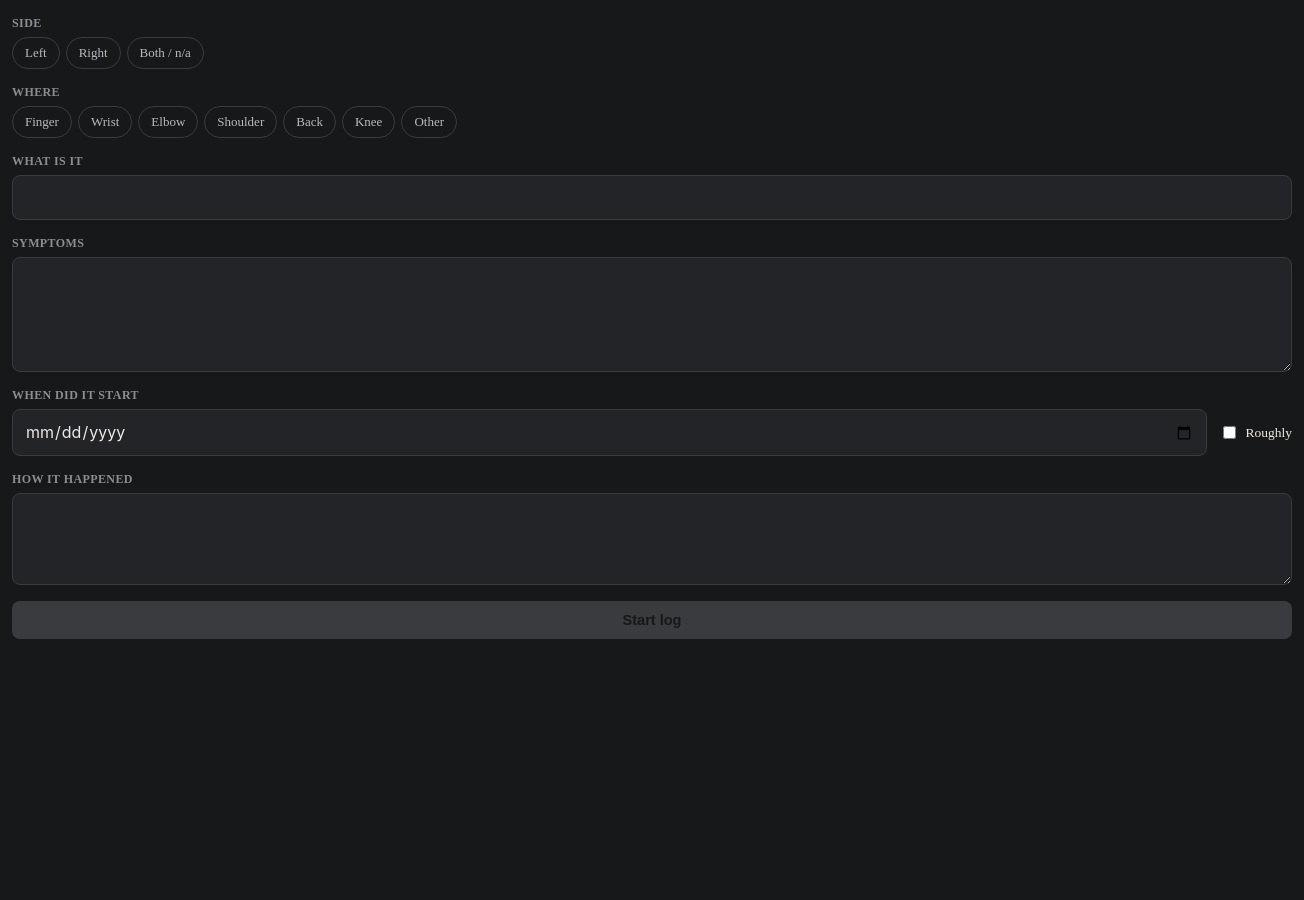
it: InjuryForm › shows an error and keeps the form when saving fails
Click the button "Right".
click(93, 53)  # box [66, 37, 121, 69]
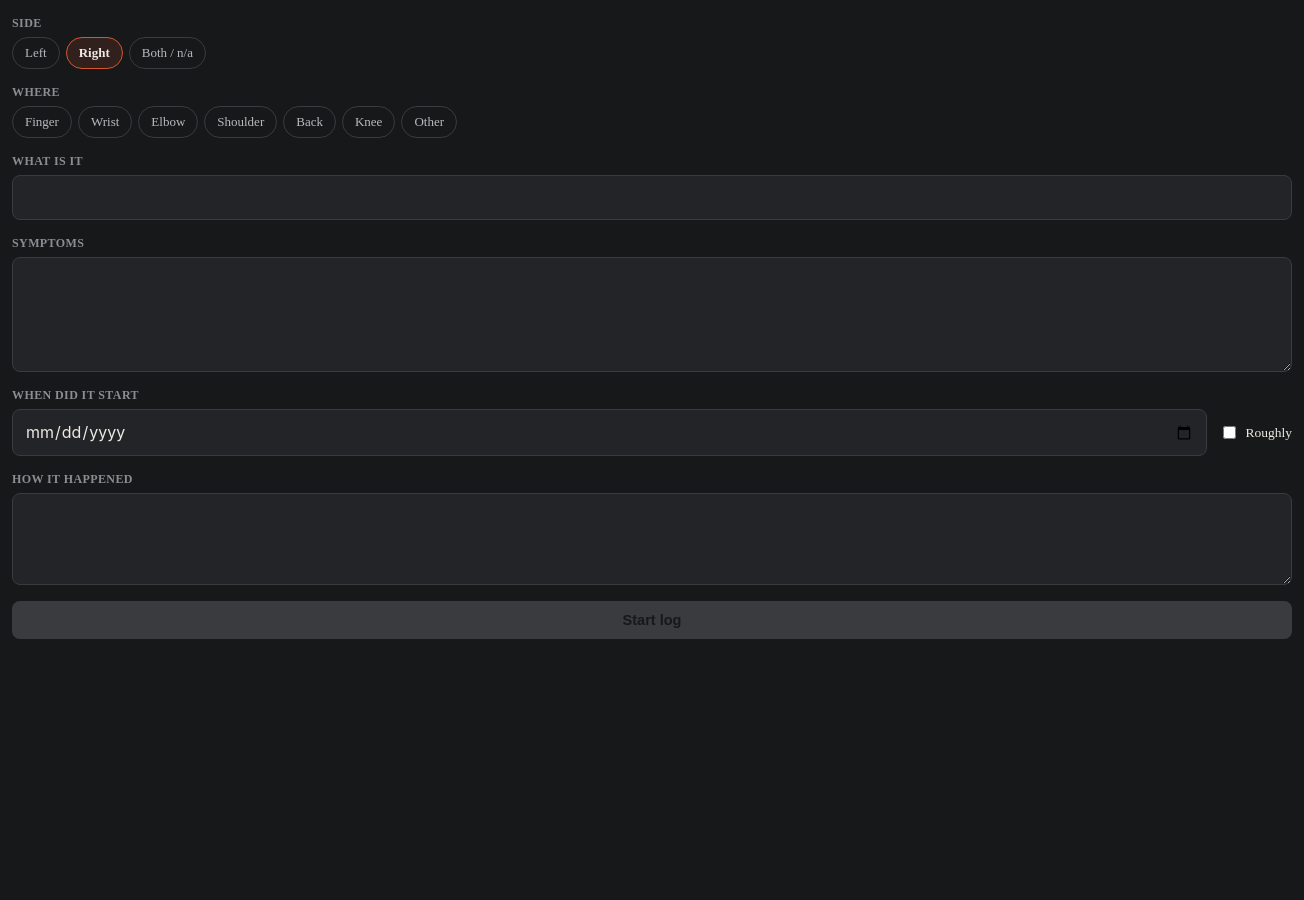
Click the button "Wrist".
click(105, 122)  # box [78, 106, 132, 138]
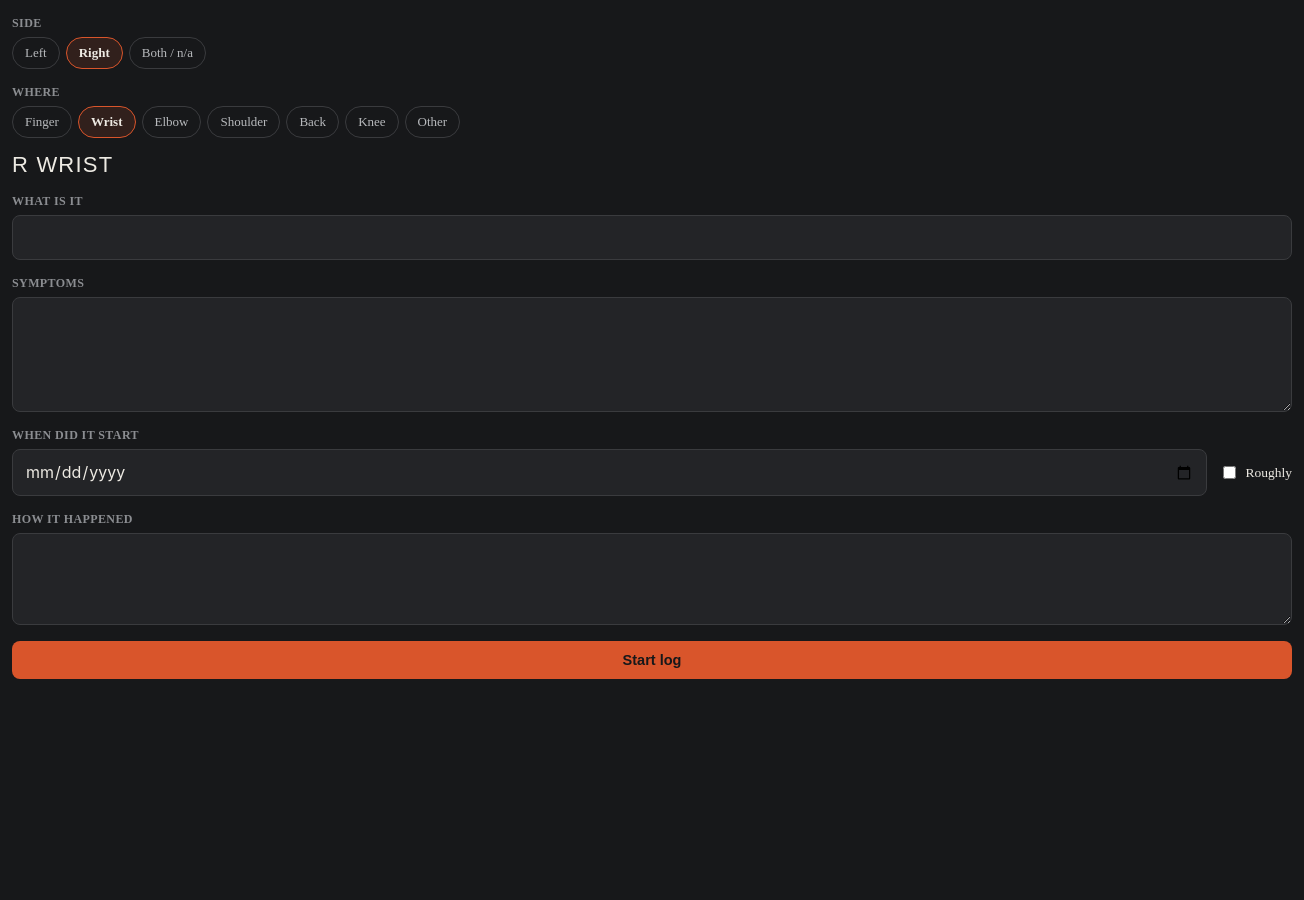
Type "Sore" into the field labelled "What is it".
click(652, 238); type("Sore")  # box [12, 215, 1292, 260]
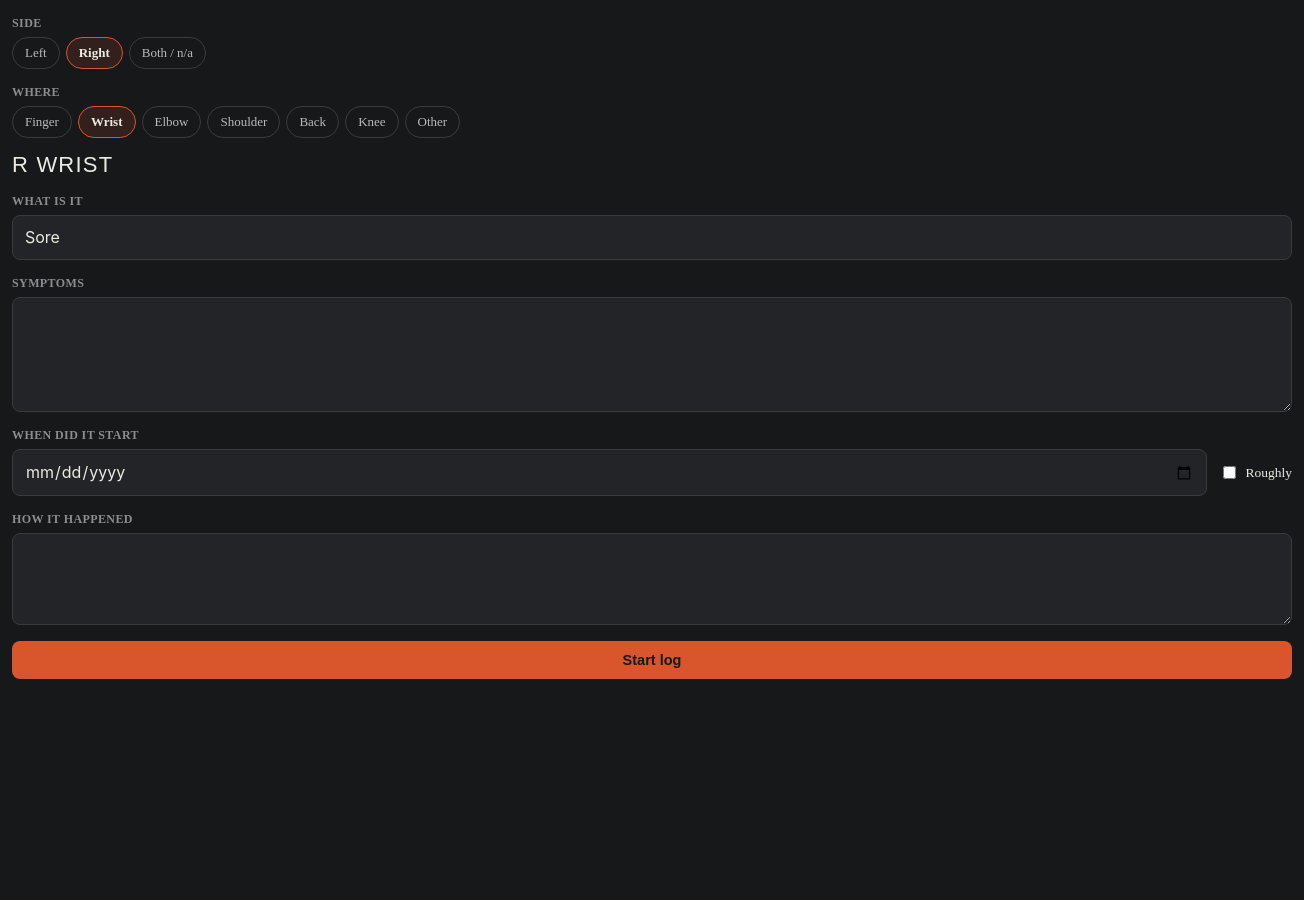
Click the button "Start log".
click(652, 660)  # box [12, 641, 1292, 679]
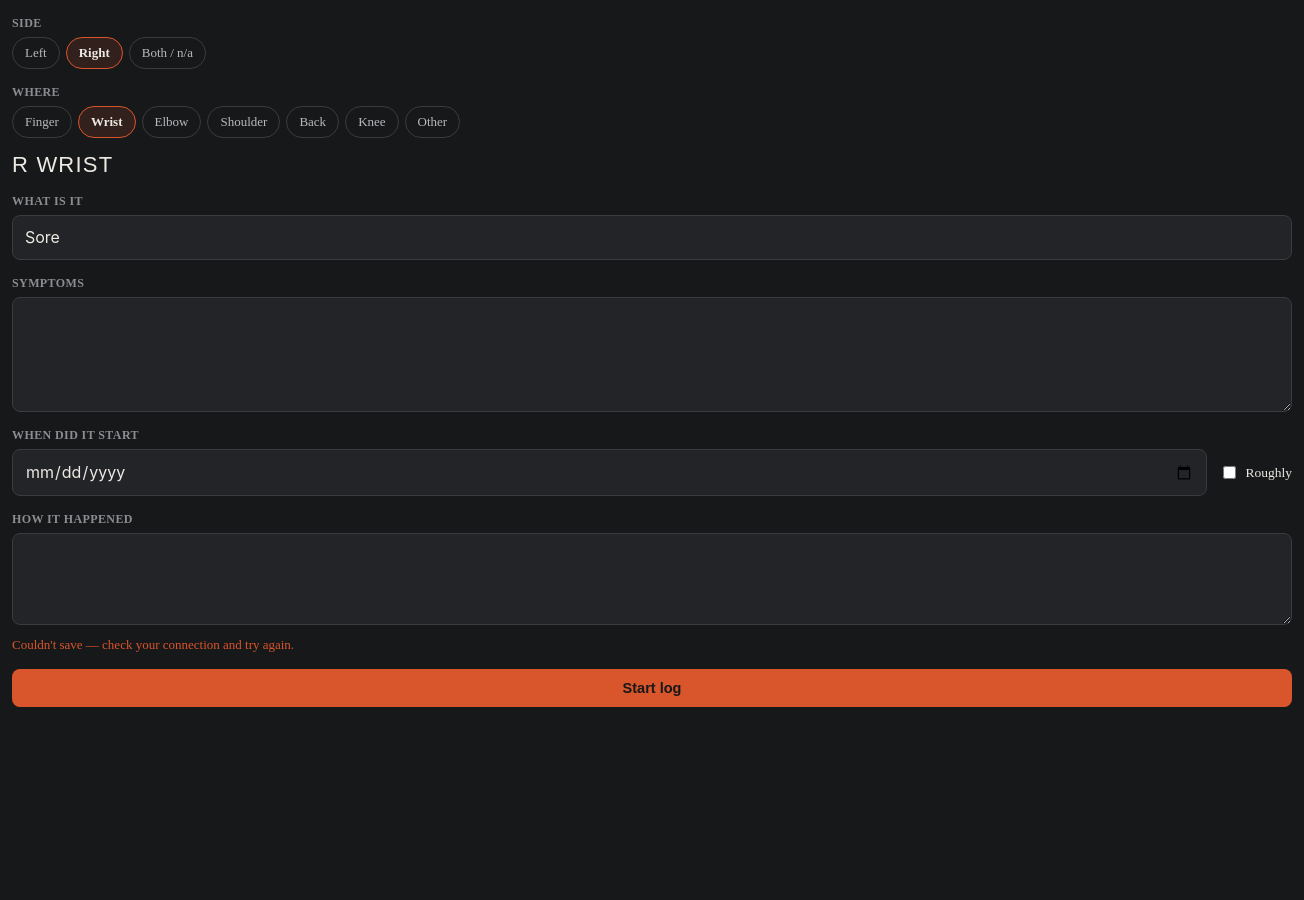
Check: the button "Start log" is enabled, box [12, 669, 1292, 707]
Check: the text "Couldn't save — check your connection and try again." is shown, box [12, 637, 294, 652]
